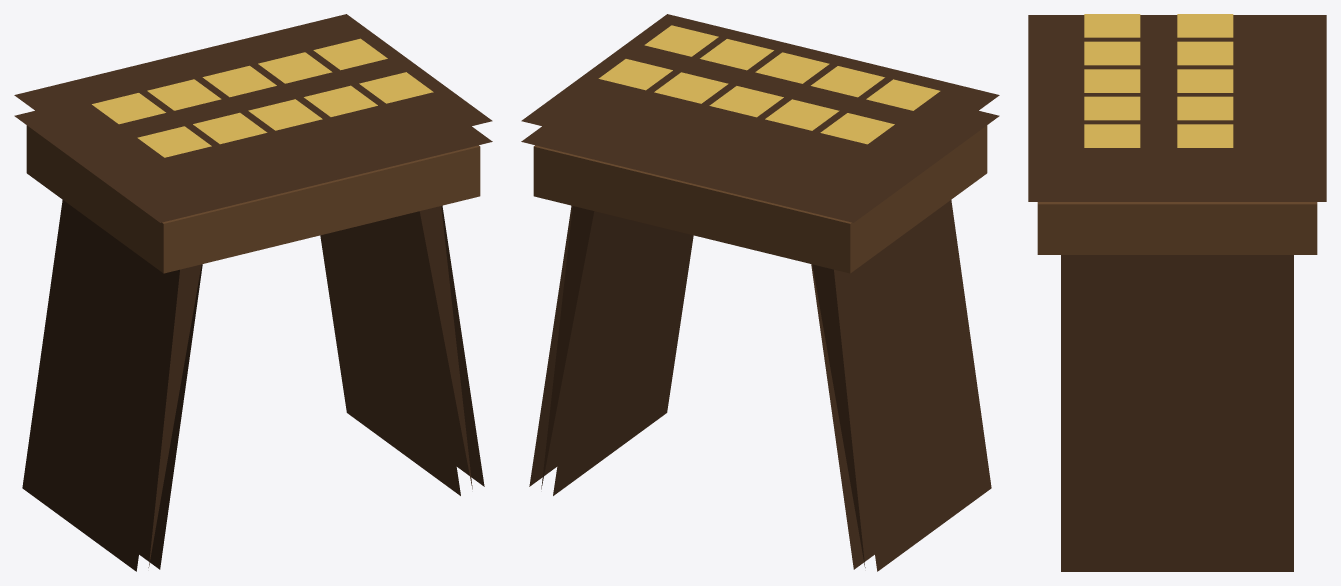
The model's file is prop_candy_stand_lod1.glb.
3 views of the same model, side by side, from view 1: azimuth 30°, elevation 25°; view 2: azimuth 150°, elevation 25°; view 3: azimuth 270°, elevation 25° (orthographic). The views are drawn at different scales.
Visible parts, largest first — view 1: prop_candy_stand_lod1; view 2: prop_candy_stand_lod1; view 3: prop_candy_stand_lod1.
Part boxes in pixels (left/top/right/bottom): prop_candy_stand_lod1: left=14, top=14, right=492, bottom=571; prop_candy_stand_lod1: left=521, top=14, right=999, bottom=571; prop_candy_stand_lod1: left=1028, top=14, right=1326, bottom=571.
Size of the model in its own units: 0.8789 by 0.965 by 0.64.
